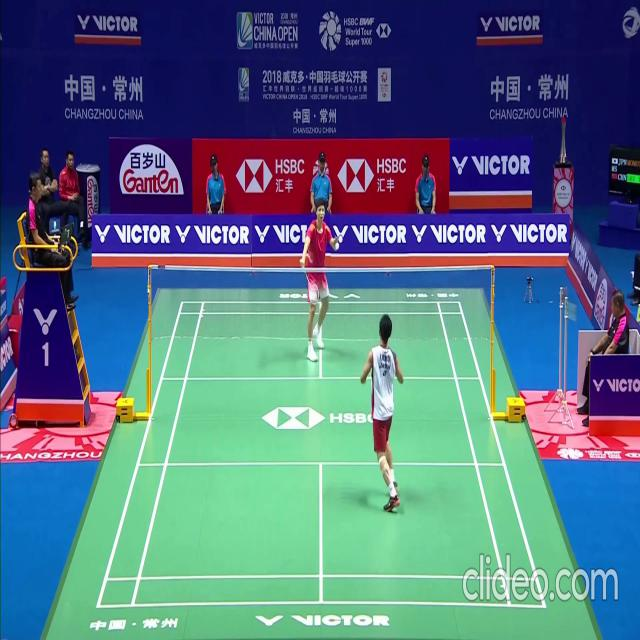Shuttlecock: (335, 242, 340, 250)
